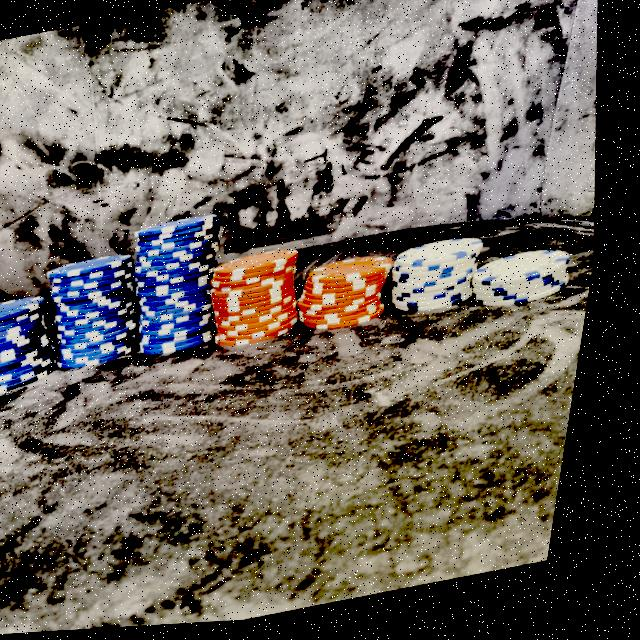Chip: (113, 202, 254, 379), (36, 246, 168, 379), (454, 221, 593, 331), (211, 239, 325, 359), (380, 228, 503, 329), (299, 240, 411, 347), (0, 285, 86, 410), (54, 261, 138, 370)
